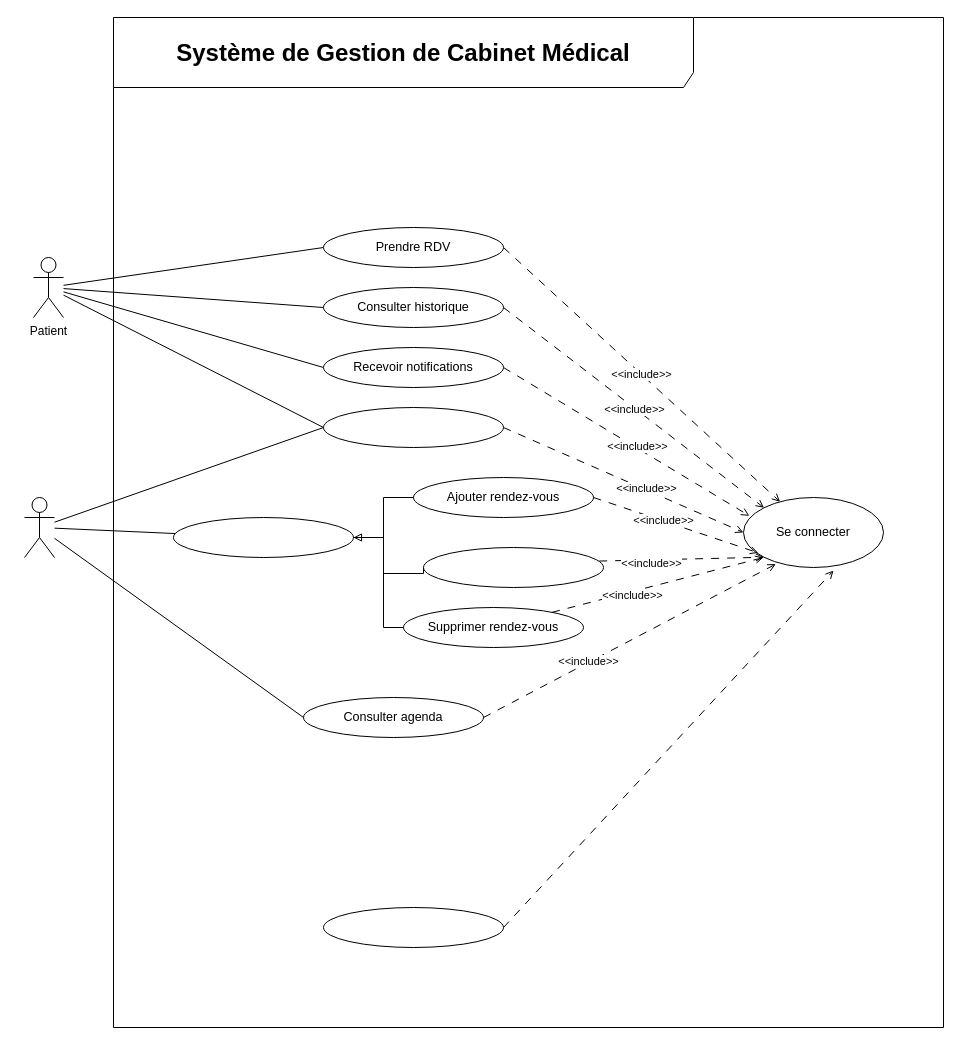
The diagram is 961 pixels wide and 1045 high, and some of its shapes have lost their labels. Here are the shapes that lost their labels. From the top down, the centre of each, then its label:
At point 413,427: "s'inscrire".
At point 39,527: "Médecin".
At point 263,537: "Gérer rendez-vous".
At point 513,567: "Modifier rendez-vous".
At point 413,927: "Générer certificats".
